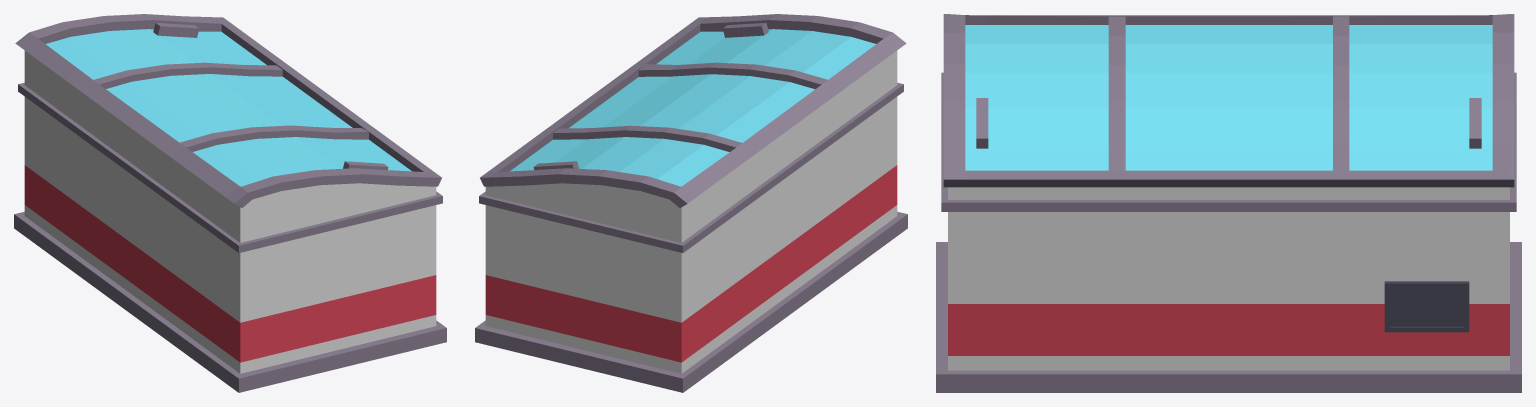
Rendered from BG freezer.fbx.
3 views of the same model, side by side, from view 1: azimuth 30°, elevation 25°; view 2: azimuth 150°, elevation 25°; view 3: azimuth 270°, elevation 25° (orthographic). The views are drawn at different scales.
Visible parts, largest first — view 1: Cube; view 2: Cube; view 3: Cube.
Part boxes in pixels (box(x1,y1,x2,y2)): Cube: box(14, 14, 446, 392); Cube: box(475, 14, 907, 392); Cube: box(936, 14, 1521, 392).
Size of the model in its own units: 3.17 by 5.88 by 2.85.
